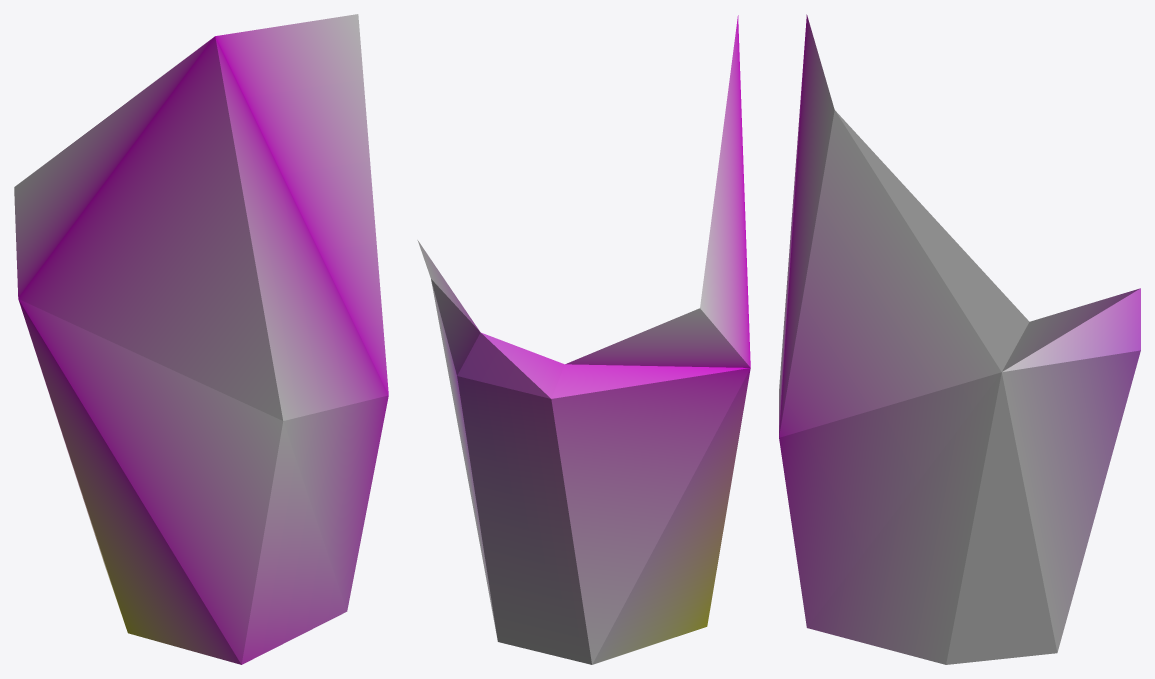
3 renders of one model, left to right at view 1: azimuth 30°, elevation 25°; view 2: azimuth 150°, elevation 25°; view 3: azimuth 270°, elevation 25°, orthographic. The views are drawn at different scales.
Visible parts, largest first — view 1: model_1117; view 2: model_1117; view 3: model_1117.
Boxes of the visible parts, bbox=[...] form: model_1117: bbox=[14, 14, 388, 664]; model_1117: bbox=[417, 15, 750, 664]; model_1117: bbox=[779, 14, 1140, 664].
Bounding box in the file's own units: 13 × 23 × 13.
